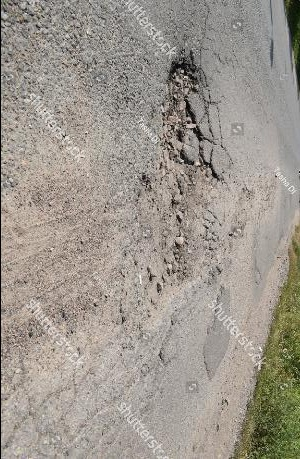pothole: (159, 49, 224, 178)
